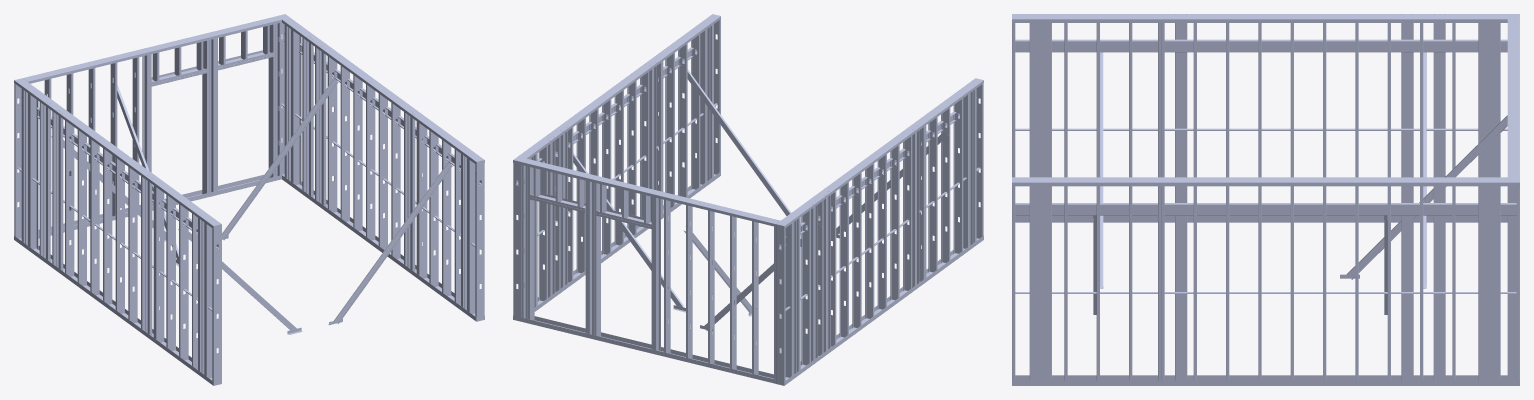
File: Room Assy.FBX
3 views of the same model, side by side, from view 1: azimuth 30°, elevation 25°; view 2: azimuth 150°, elevation 25°; view 3: azimuth 270°, elevation 25° (orthographic). The views are drawn at different scales.
Visible parts, largest first — view 1: LPattern1 (×34), Boss-Extrude1 (×35); view 2: LPattern1 (×36), Boss-Extrude1 (×34); view 3: Boss-Extrude1 (×28), LPattern1 (×32).
Boxes of the visible parts, x1,y1,x2,y2 form: LPattern1 (×34): (14, 22, 484, 385); Boss-Extrude1 (×35): (14, 14, 484, 385); LPattern1 (×36): (513, 19, 983, 385); Boss-Extrude1 (×34): (513, 14, 983, 385); Boss-Extrude1 (×28): (1012, 14, 1519, 385); LPattern1 (×32): (1012, 23, 1519, 380).
Size of the model in its own units: 197 by 111 by 251.
